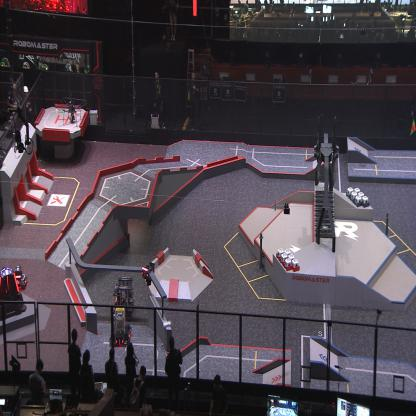car: (109, 304, 132, 348), (112, 276, 134, 316), (10, 264, 28, 290)
